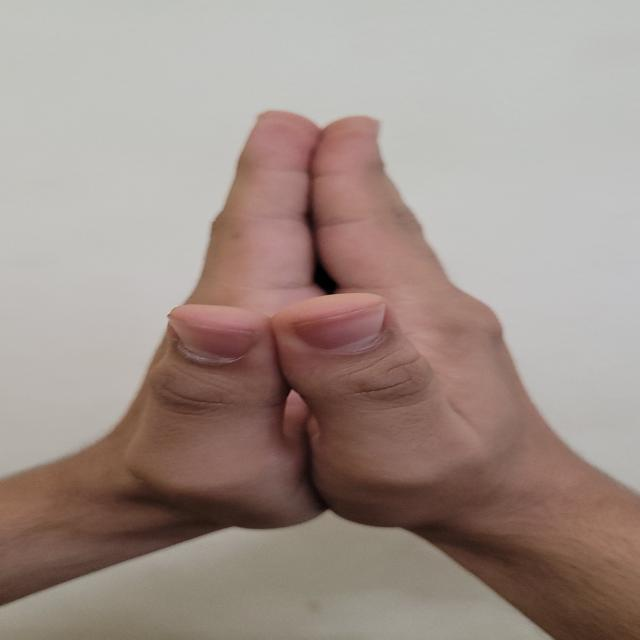Thank You: (48, 66, 575, 604)
